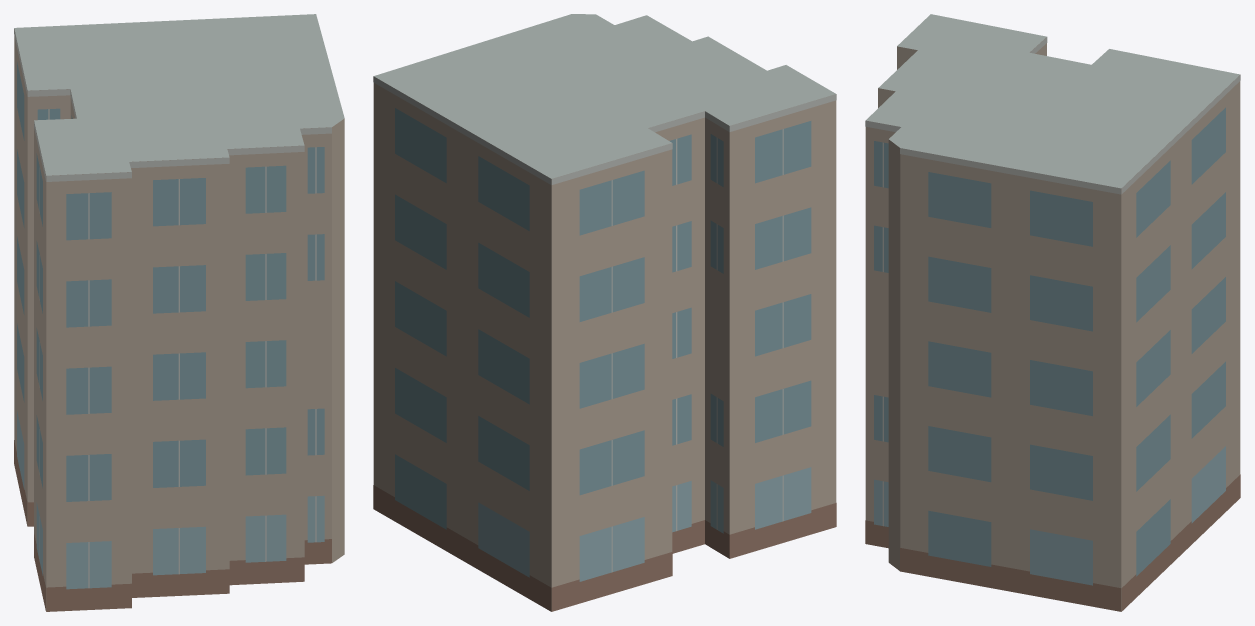
Rendered from survey-upis-32531031.glb.
3 views of the same model, side by side, from view 1: azimuth 30°, elevation 25°; view 2: azimuth 150°, elevation 25°; view 3: azimuth 270°, elevation 25° (orthographic). The views are drawn at different scales.
Visible parts, largest first — view 1: survey-upis-32531031.tmp; view 2: survey-upis-32531031.tmp; view 3: survey-upis-32531031.tmp.
Part boxes in pixels (x1,y1,x2,y2): survey-upis-32531031.tmp: [14, 14, 344, 611]; survey-upis-32531031.tmp: [373, 14, 836, 611]; survey-upis-32531031.tmp: [865, 14, 1240, 611].
Size of the model in its own units: 14.81 by 16.75 by 13.45.
